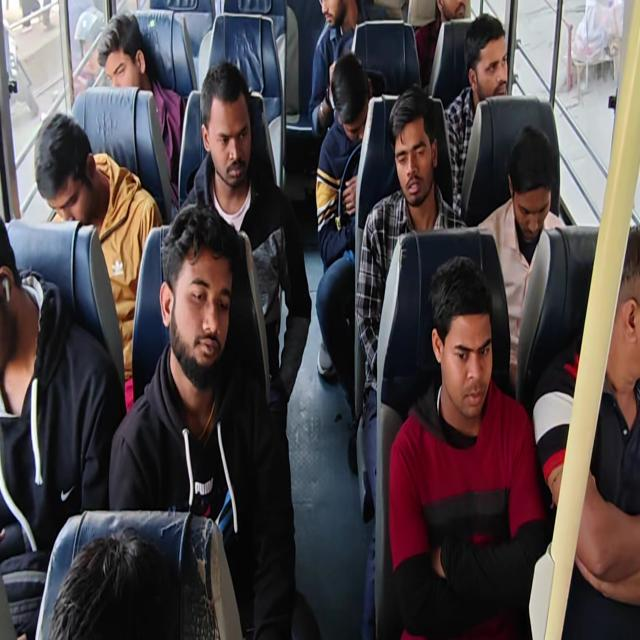person: (150, 186, 248, 402), (49, 522, 198, 640), (427, 238, 513, 437), (589, 232, 640, 423), (201, 63, 266, 206), (0, 202, 45, 402), (504, 121, 571, 254), (31, 107, 105, 221), (388, 93, 451, 213), (90, 13, 156, 104), (330, 54, 377, 138), (468, 17, 512, 104), (431, 0, 484, 33), (317, 3, 361, 29)
